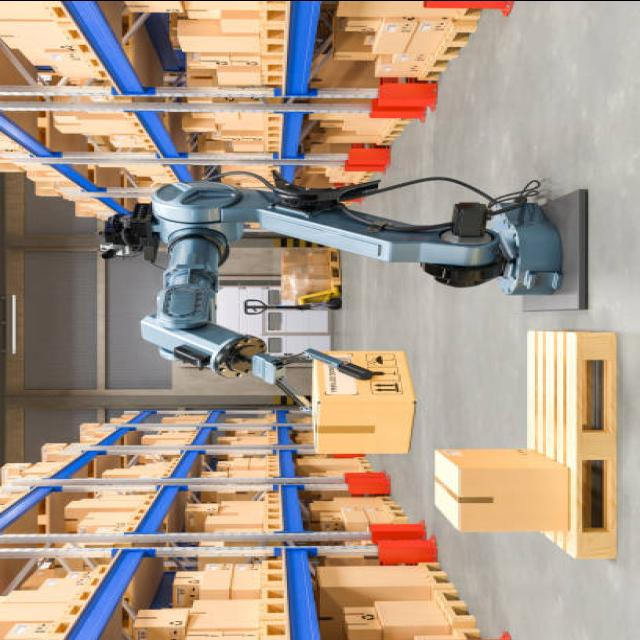Robotic-arm: (84, 164, 610, 410)
